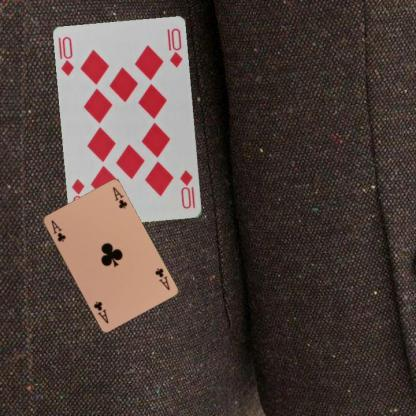10d: (177, 168, 197, 210), (59, 34, 76, 78)
Ac: (48, 217, 67, 243), (152, 265, 171, 291)
